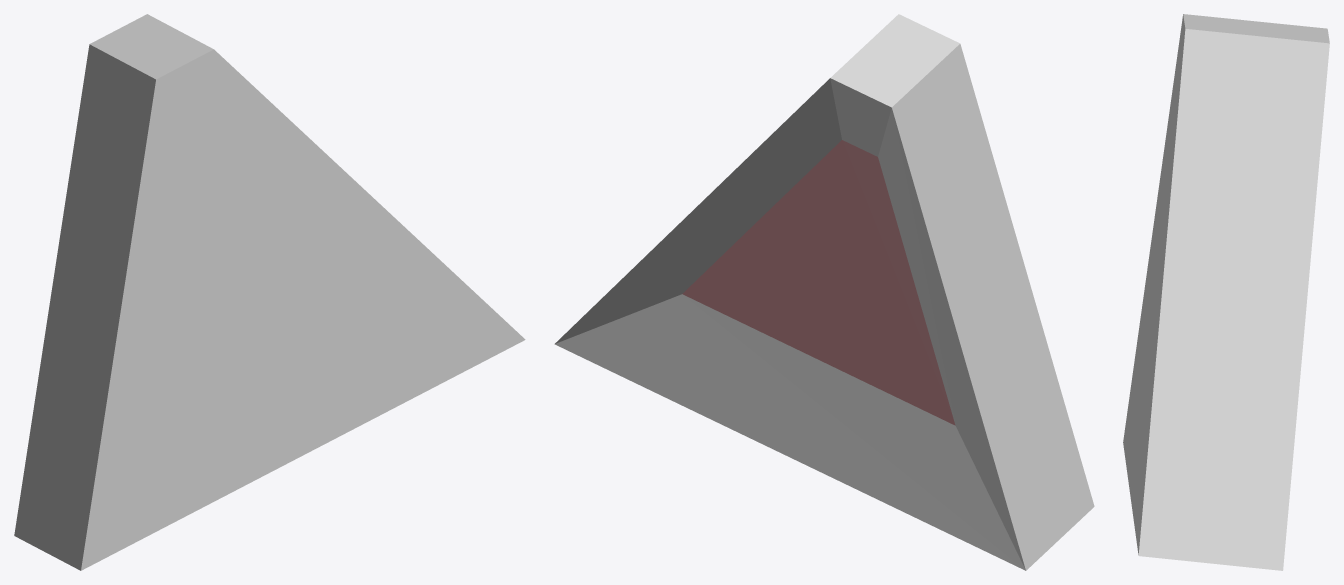
Rendered from kiiroear_l.obj.
3 views of the same model, side by side, from view 1: azimuth 30°, elevation 25°; view 2: azimuth 150°, elevation 25°; view 3: azimuth 270°, elevation 25° (orthographic). The views are drawn at different scales.
Parts seen in each view (by area): view 1: kiiroear_l; view 2: kiiroear_l; view 3: kiiroear_l.
Part boxes in pixels (box(x1,y1,x2,y2)): kiiroear_l: box(14, 14, 525, 570); kiiroear_l: box(554, 14, 1094, 570); kiiroear_l: box(1123, 14, 1329, 570).
Bounding box in the file's own units: 0.1787 × 0.1794 × 0.0654.
